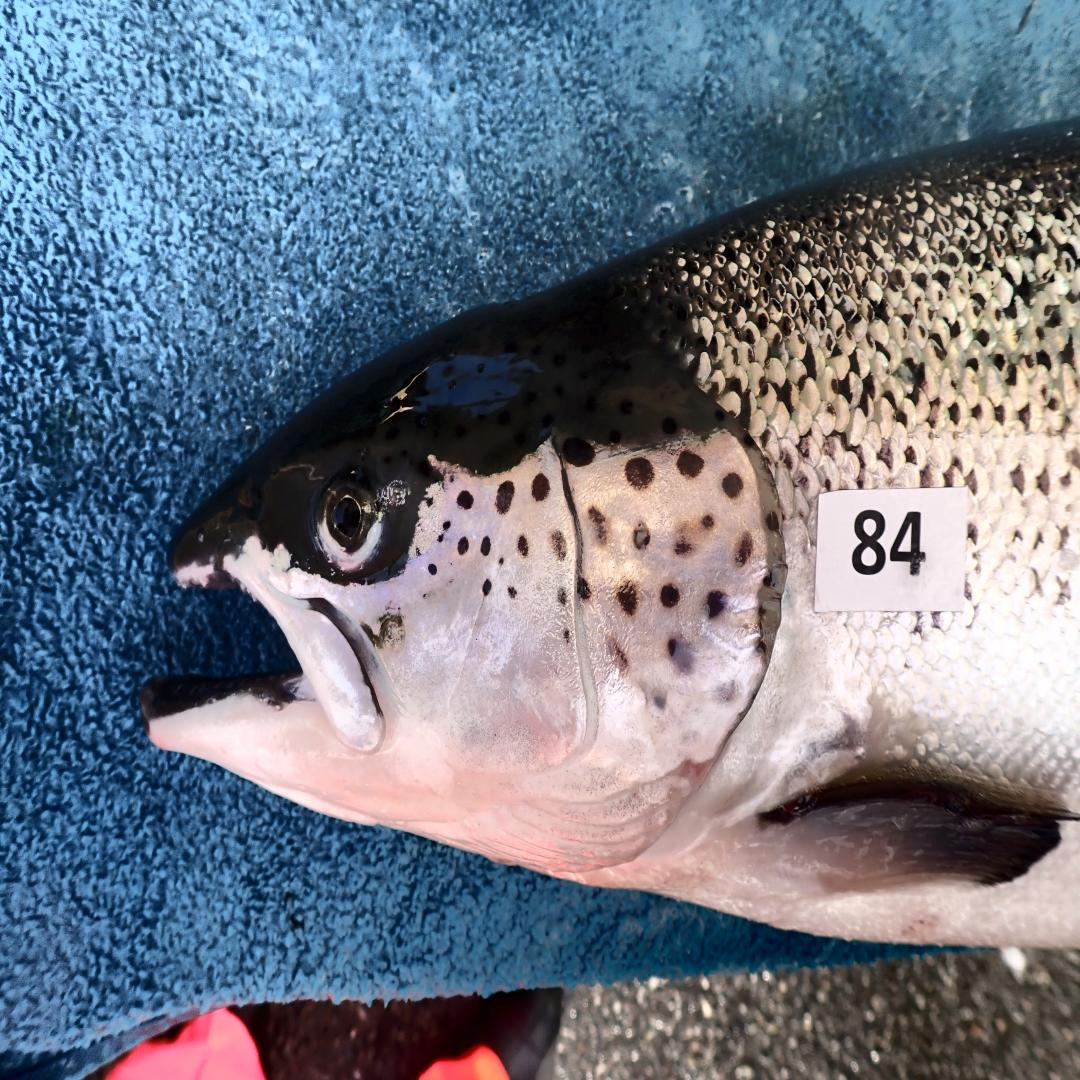spot: (667, 638, 694, 675), (624, 458, 654, 489), (563, 439, 595, 467), (677, 450, 705, 478), (616, 582, 639, 616), (735, 531, 755, 567), (496, 481, 515, 515), (707, 590, 728, 619), (721, 472, 743, 499), (589, 507, 605, 544), (531, 472, 551, 501), (660, 585, 680, 608), (551, 532, 567, 560), (633, 525, 649, 549), (612, 643, 628, 666), (576, 577, 591, 599), (458, 489, 472, 509), (719, 687, 737, 702), (766, 512, 779, 532), (764, 572, 780, 588), (518, 536, 530, 557), (480, 535, 491, 556), (457, 537, 469, 555), (676, 541, 692, 554), (654, 698, 667, 710), (482, 579, 491, 596), (558, 590, 567, 606), (428, 562, 437, 577), (703, 516, 714, 527), (508, 587, 516, 599), (563, 629, 569, 644), (443, 520, 451, 531), (437, 534, 443, 542), (499, 557, 503, 566), (422, 593, 426, 598)
